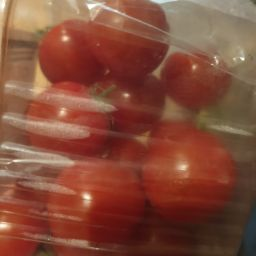Pea tomatoes: (19, 1, 217, 208), (117, 121, 251, 236), (26, 149, 153, 240), (22, 79, 116, 156), (90, 7, 173, 89), (163, 45, 235, 118), (36, 20, 105, 94), (105, 70, 169, 139), (4, 200, 53, 256)
